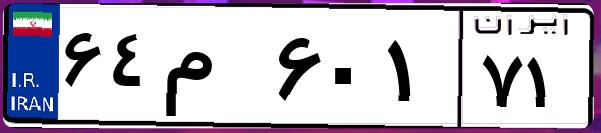0: (330, 28, 385, 110)
1: (385, 28, 445, 110), (525, 38, 570, 115)
4: (110, 28, 158, 98)
6: (270, 28, 330, 110), (57, 26, 110, 100)
7: (475, 38, 525, 113)
م: (158, 20, 270, 120)
